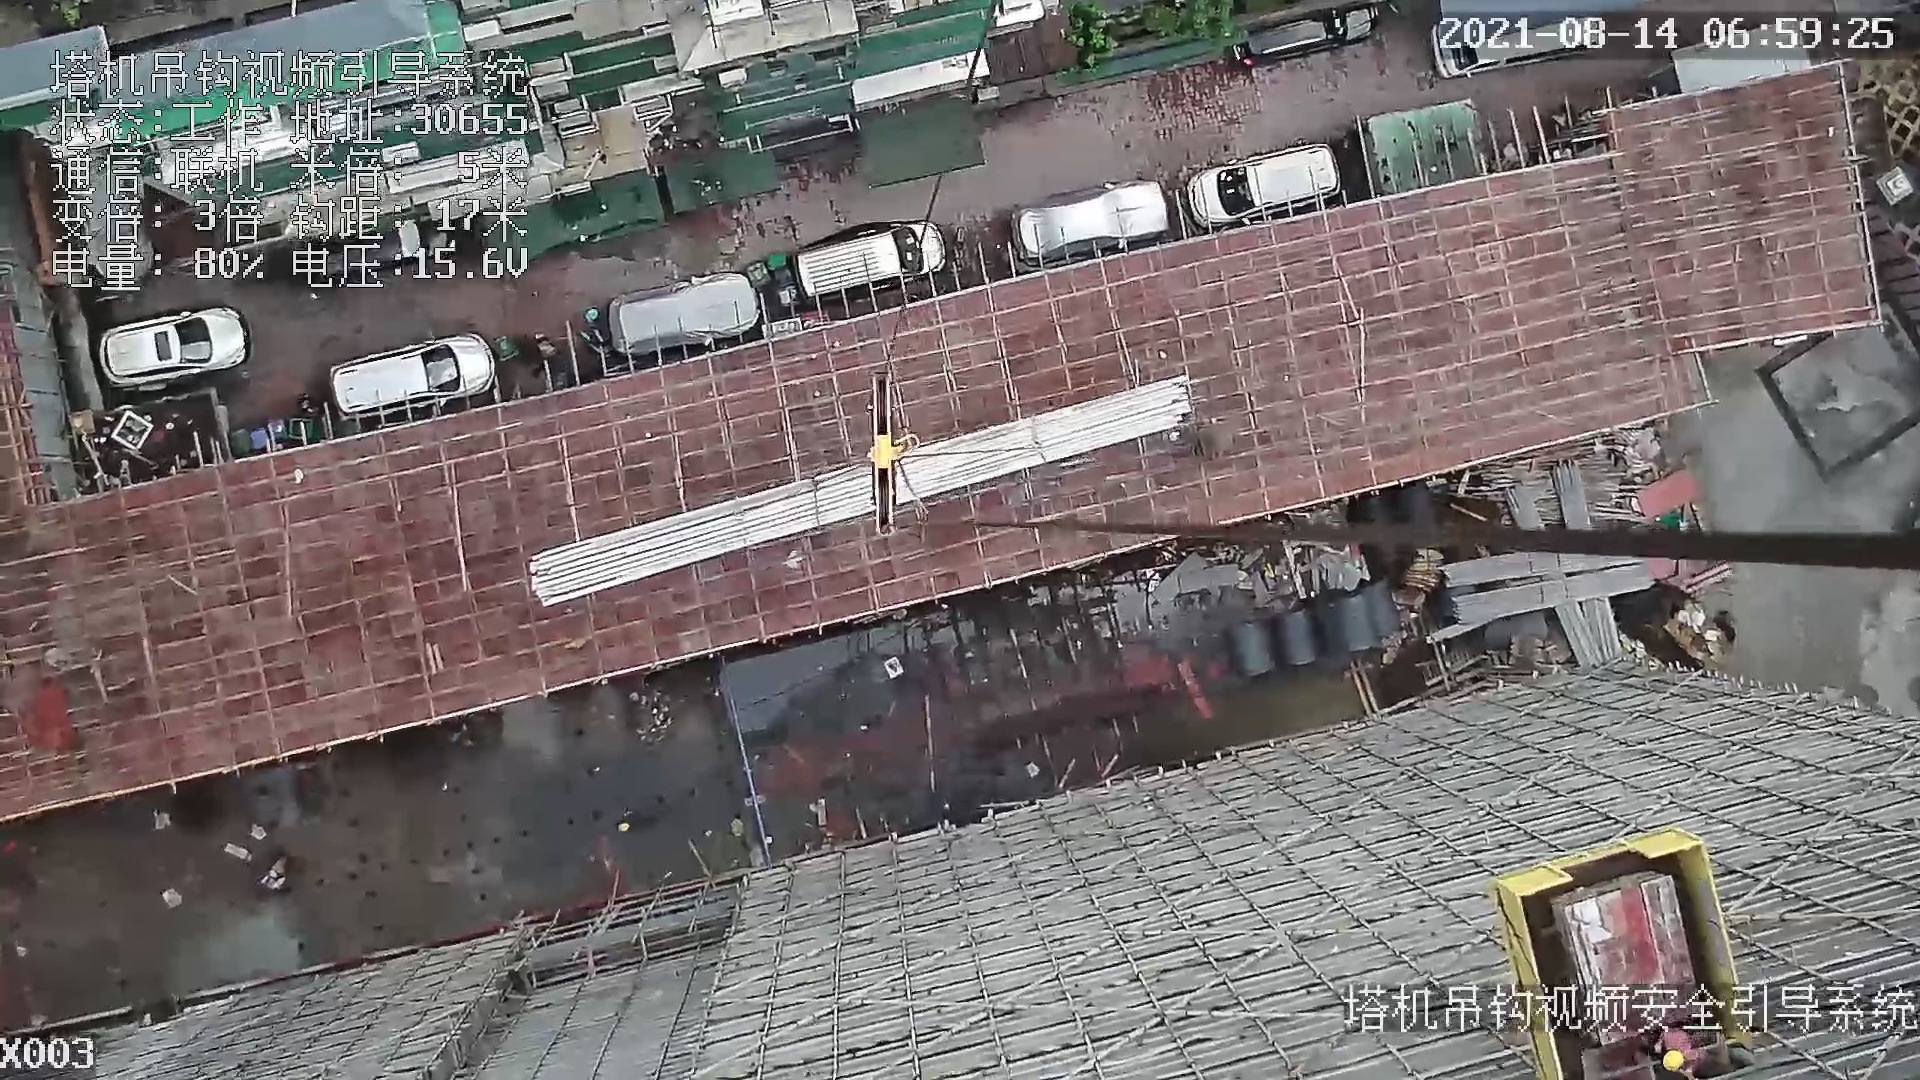board: (1551, 870, 1693, 989)
hook: (860, 365, 920, 531)
rebar: (527, 378, 1189, 603), (1505, 481, 1600, 665), (1552, 460, 1623, 659), (1453, 563, 1647, 629), (1445, 555, 1648, 585)
wood: (1402, 549, 1443, 591)
